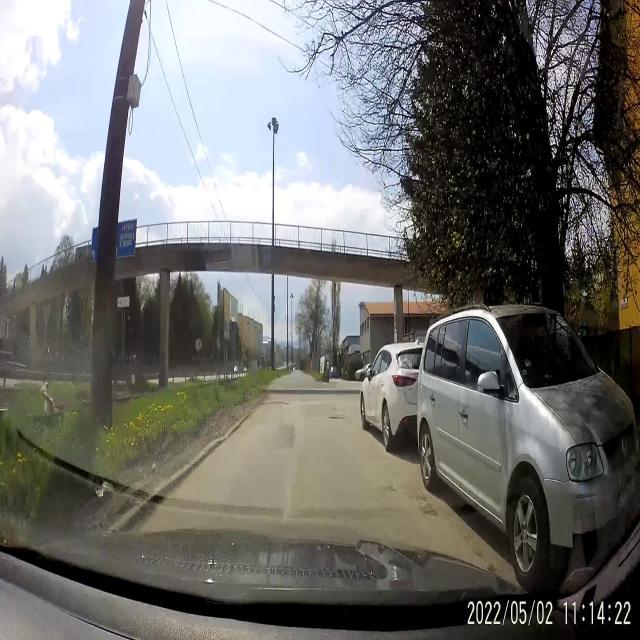Pothole: (417, 506, 440, 518), (266, 398, 290, 409), (325, 409, 345, 422), (385, 482, 398, 494)
